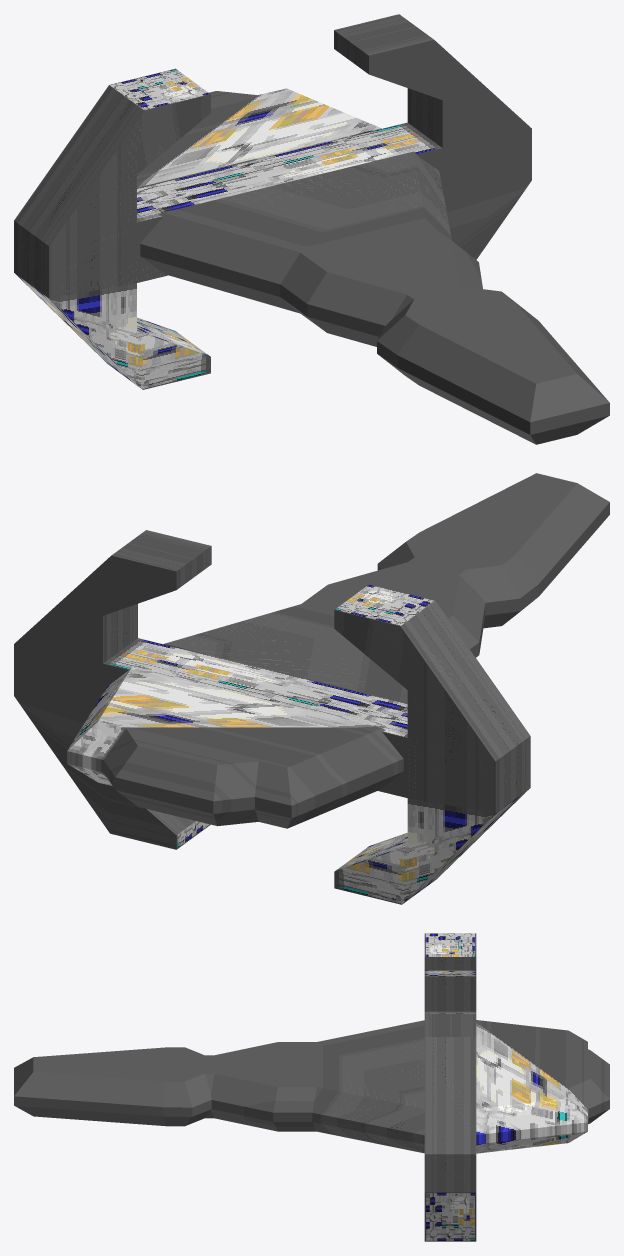
File: aliensh5.obj
The picture shows the model from 3 angles, top to bottom: view 1: azimuth 30°, elevation 25°; view 2: azimuth 150°, elevation 25°; view 3: azimuth 270°, elevation 25°; orthographic projection. The views are drawn at different scales.
Size of the model in its own units: 1.63 by 0.9016 by 2.38.
Materials: 1 (1 with a texture image).
